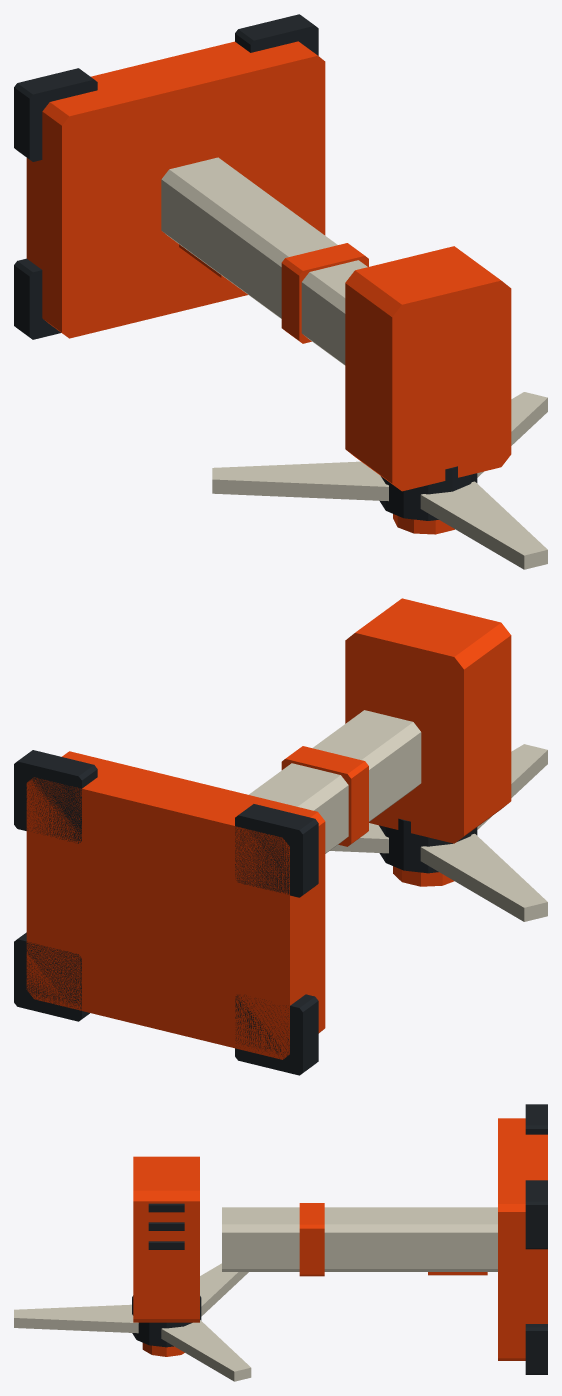
File: wind-turbine.obj
The picture shows the model from 3 angles, top to bottom: view 1: azimuth 30°, elevation 25°; view 2: azimuth 150°, elevation 25°; view 3: azimuth 270°, elevation 25°; orthographic projection. The views are drawn at different scales.
Parts seen in each view (by area): view 1: wind-turbine; view 2: wind-turbine; view 3: wind-turbine.
Boxes of the visible parts, x1,y1,x2,y2 form: wind-turbine: (14,14,547,569); wind-turbine: (14,598,547,1075); wind-turbine: (14,1104,547,1381).
Size of the model in its own units: 1.98 by 1.54 by 3.85.
